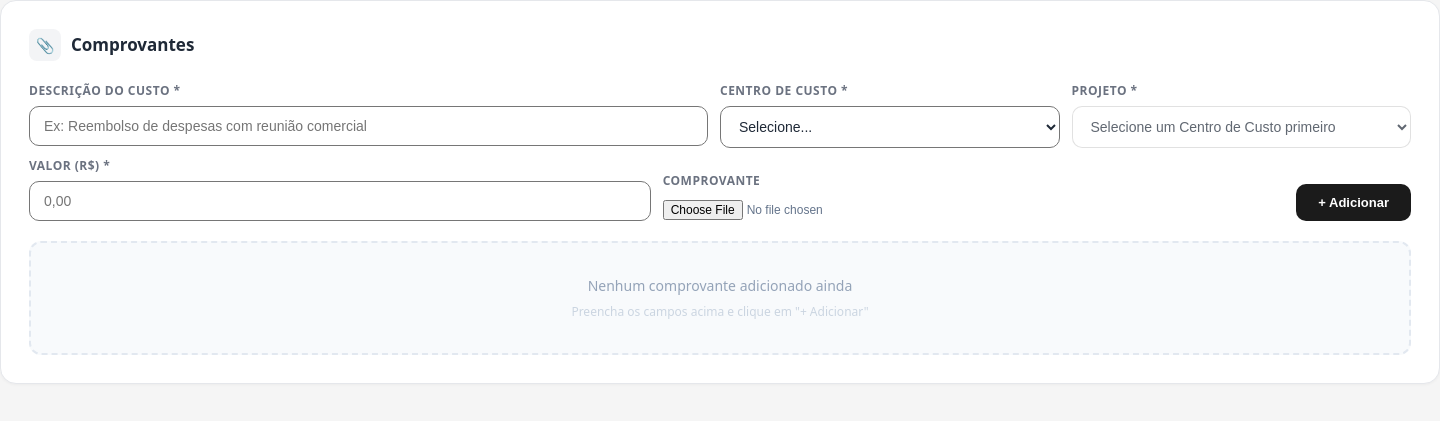
Scenario: ComprovantesSection › exibe erro quando descrição está vazia
The image size is (1440, 421).
Select "AI Lab" in the dropdown named "Centro de custo" at coordinates (890, 127), box [720,106,1060,148]
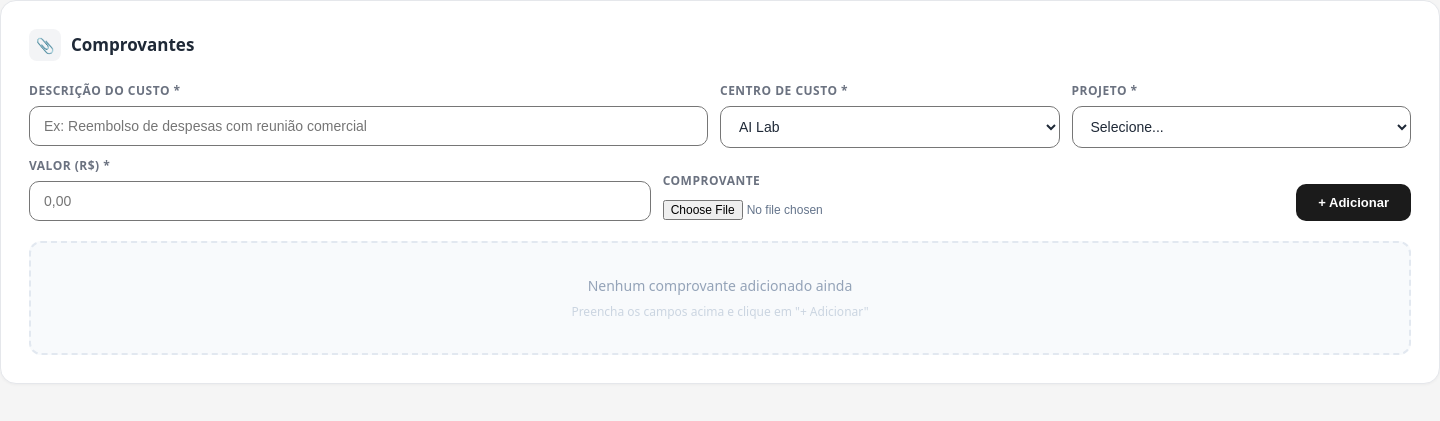
Select "BID - Reforma Tributária" in the dropdown named "Projeto" at coordinates (1241, 127), box [1072,106,1411,148]
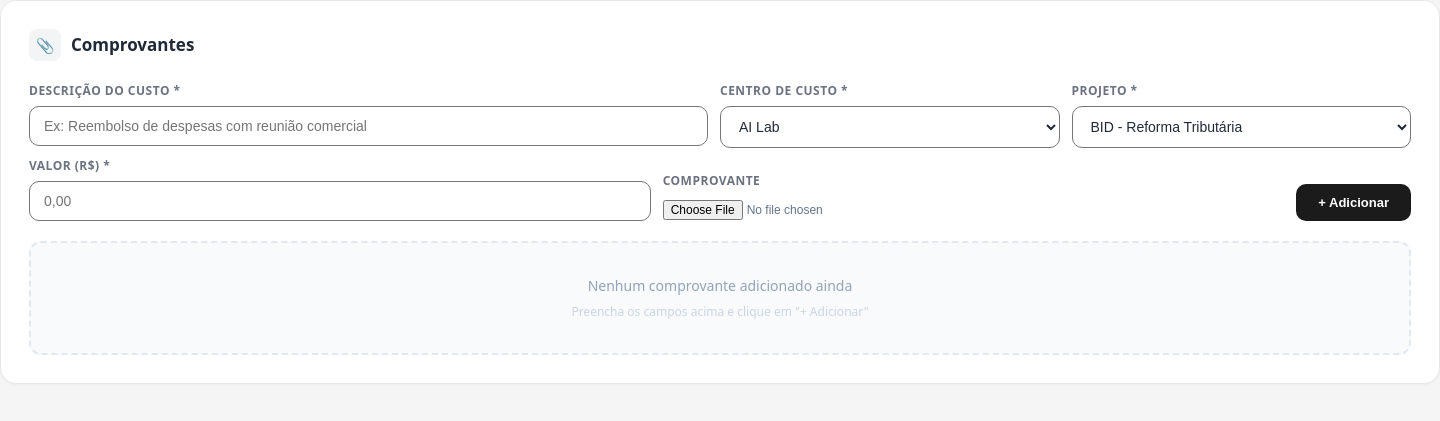
Type "50" into the number field with placeholder "0,00" at coordinates (340, 201), box [29,181,651,221]
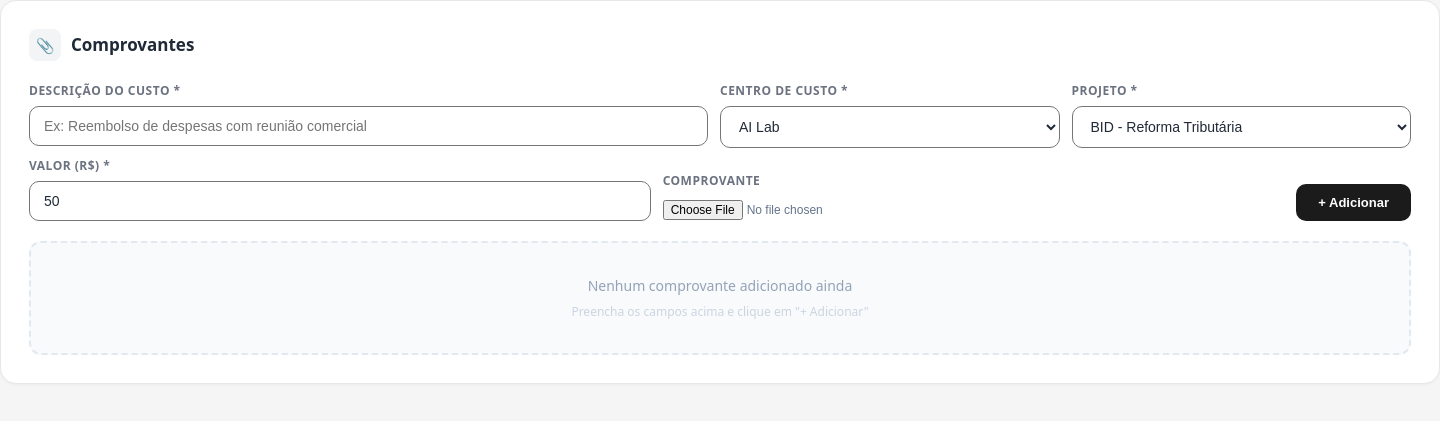
Click the button "+ Adicionar" at coordinates (1354, 203), box [1296,184,1411,221]
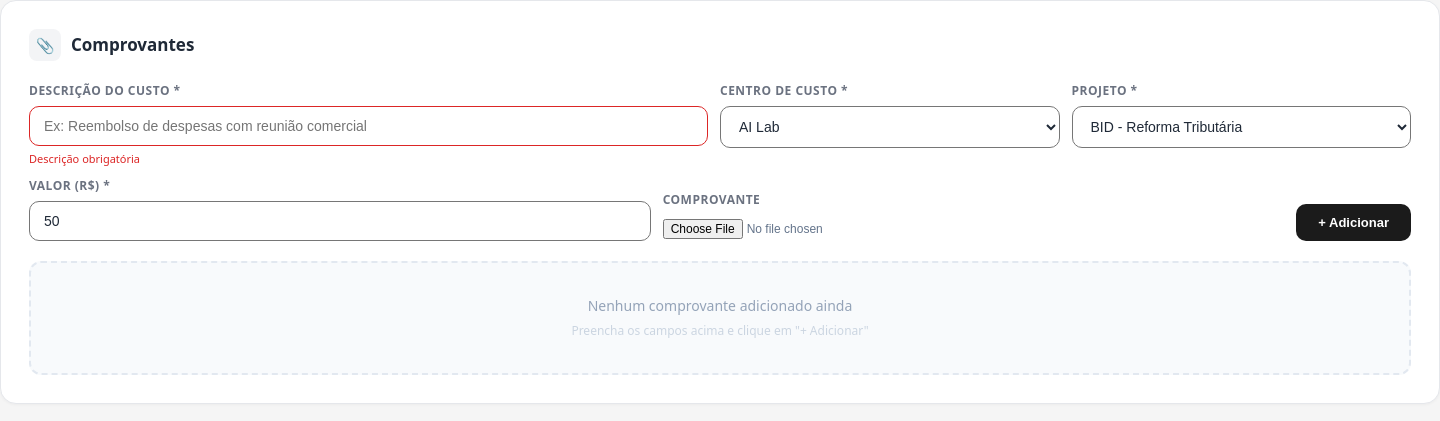
Result: the text "Descrição obrigatória" is shown at [29,151,140,166]
